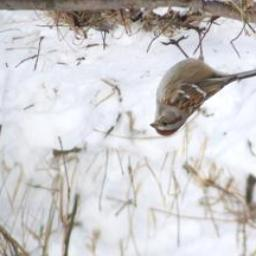Sparrow: (146, 22, 256, 142)
